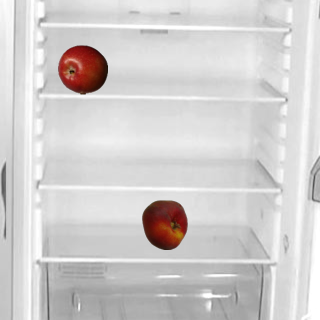Apple Braeburn: (57, 44, 107, 94)
Nectarine Flat: (139, 199, 189, 249)
